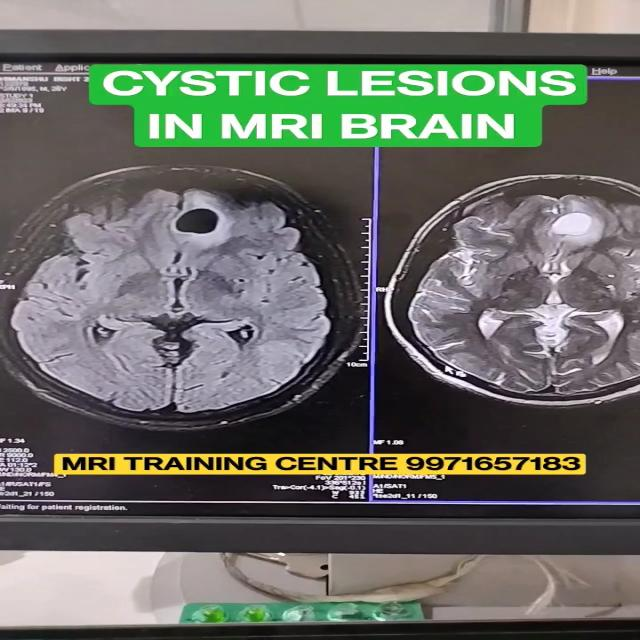tumor: (164, 192, 246, 253), (537, 209, 638, 248)
